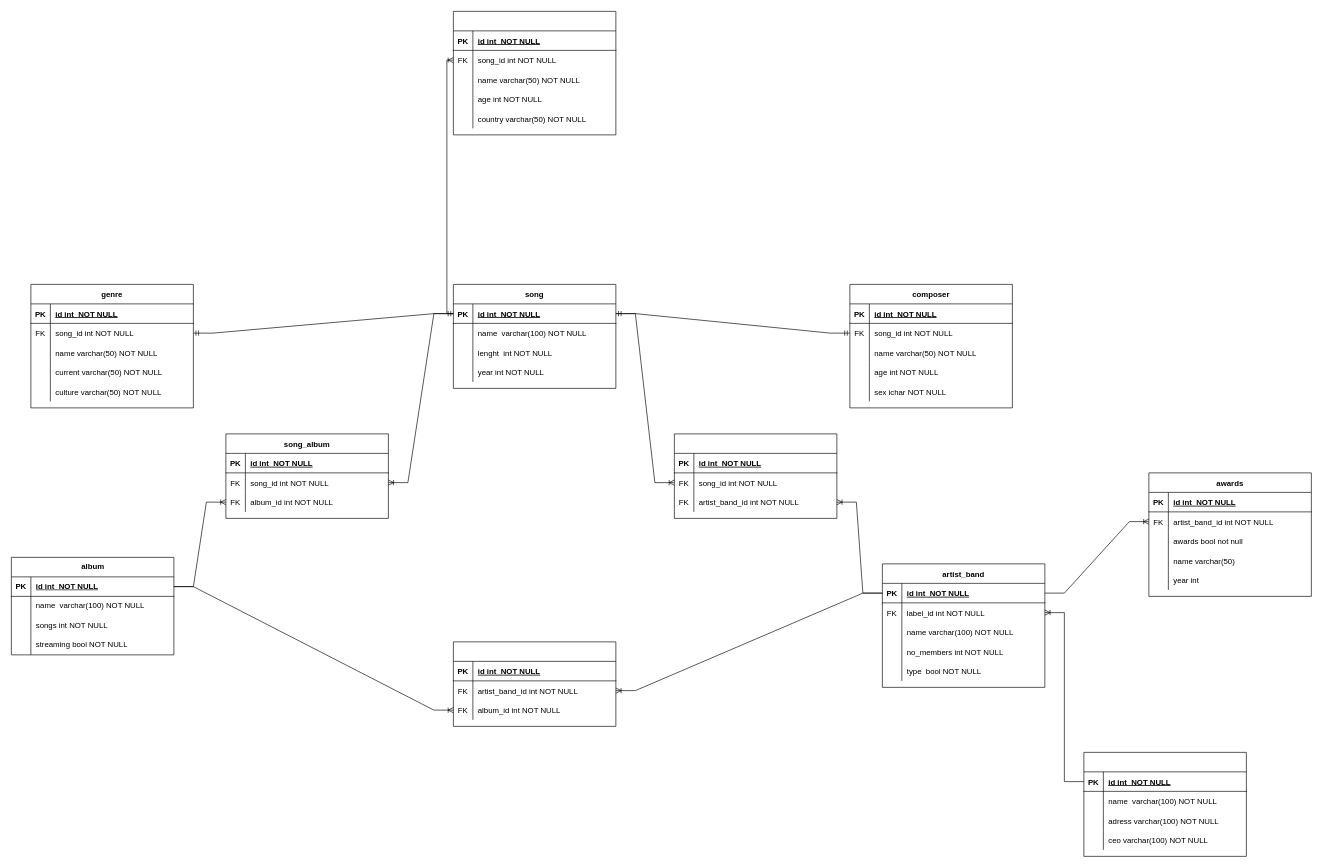
Image size: 1323x868. Some labels were removed from this diagram. The box of each missing label's shape, as (x1, y1, x2, y2) in pixels:
album_artist_band: (453, 641, 616, 726)
label: (1083, 752, 1246, 856)
producer: (453, 11, 616, 135)
song_artist_band: (674, 433, 837, 518)
